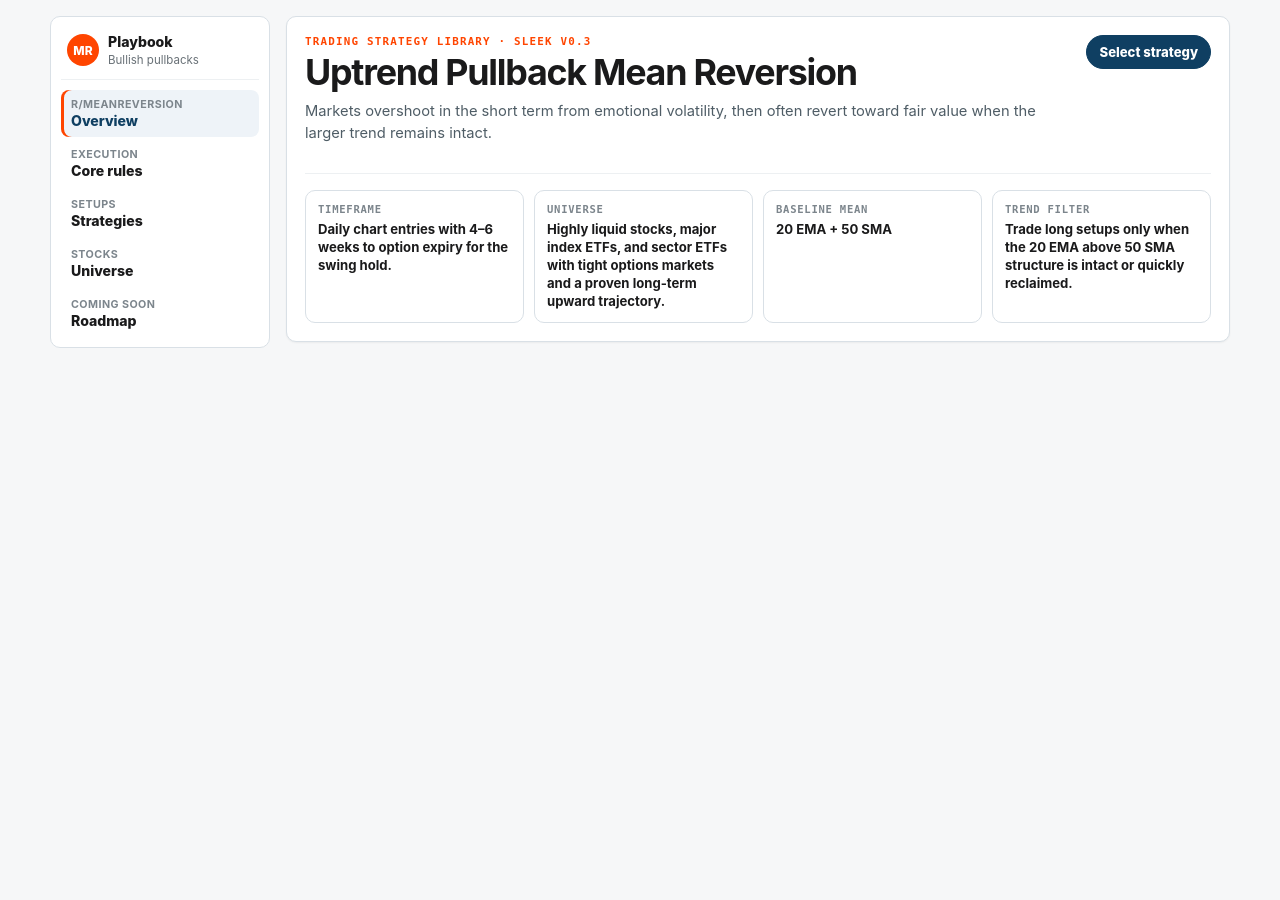
Test: App strategy navigation › loads pages from a compact Reddit-inspired side navigation
Expected: the heading "Uptrend Pullback Mean Reversion" is shown, 305,50 -> 857,94
Click the button "Execution Core rules": (160, 164) 61,140 -> 259,187
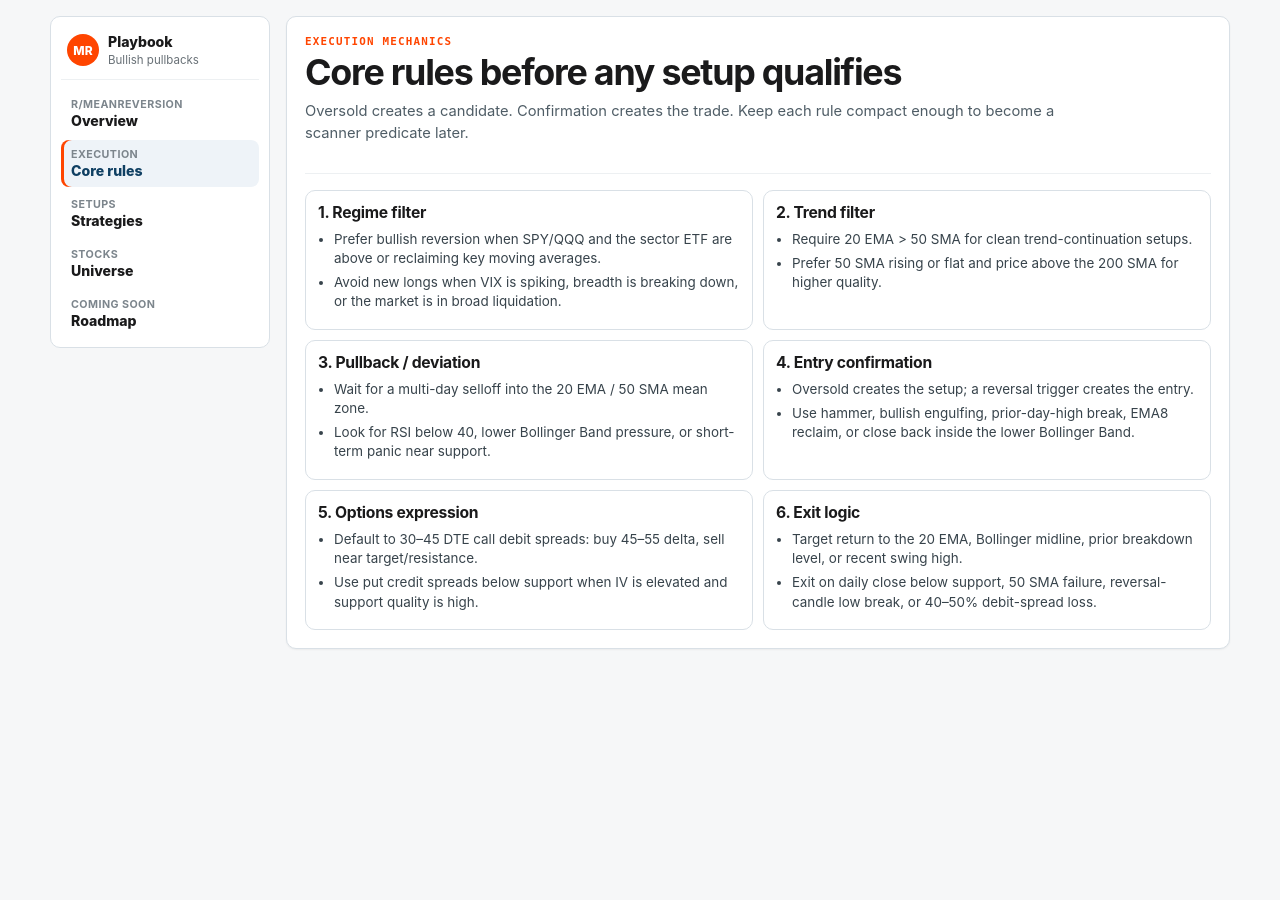
Result: the heading "Core rules before any setup qualifies" is shown at 305,50 -> 901,94
Result: the heading "Uptrend Pullback Mean Reversion" is gone
